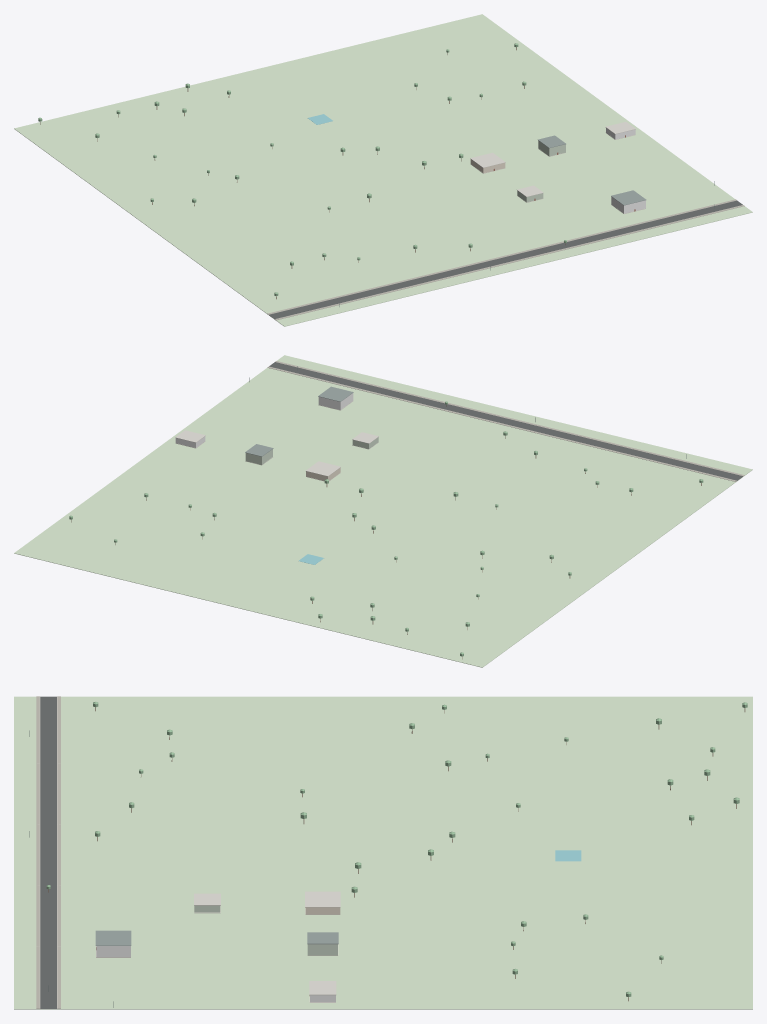
File: chunk_1_5_low.glb
3 renders of one model, top to bottom at view 1: azimuth 30°, elevation 25°; view 2: azimuth 150°, elevation 25°; view 3: azimuth 270°, elevation 25°, orthographic. The views are drawn at different scales.
Parts seen in each view (by area): view 1: city_grass, city_world_asphalt, city_world_sidewalk, city_roof_tile, city_curb, city_foliage_dark, city_roof_slate; view 2: city_grass, city_world_asphalt, city_world_sidewalk, city_roof_tile, city_curb, city_foliage_dark, city_roof_slate; view 3: city_grass, city_world_asphalt, city_world_sidewalk, city_roof_tile, city_foliage_dark, city_roof_slate, city_curb, city_brick, city_wall_sage.
Part boxes in pixels (x1=…): city_grass: x1=14, y1=14, x2=752, y2=326; city_world_asphalt: x1=269, y1=200, x2=742, y2=318; city_world_sidewalk: x1=267, y1=199, x2=744, y2=320; city_roof_tile: x1=470, y1=122, x2=635, y2=196; city_curb: x1=269, y1=200, x2=742, y2=319; city_foliage_dark: x1=38, y1=43, x2=566, y2=296; city_roof_slate: x1=538, y1=135, x2=646, y2=205; city_grass: x1=14, y1=355, x2=752, y2=667; city_world_asphalt: x1=269, y1=362, x2=742, y2=480; city_world_sidewalk: x1=267, y1=361, x2=744, y2=481; city_roof_tile: x1=175, y1=430, x2=378, y2=476; city_curb: x1=271, y1=362, x2=743, y2=480; city_foliage_dark: x1=69, y1=401, x2=703, y2=656; city_roof_slate: x1=245, y1=386, x2=353, y2=456; city_grass: x1=14, y1=696, x2=752, y2=1009; city_world_asphalt: x1=40, y1=696, x2=56, y2=1008; city_world_sidewalk: x1=36, y1=696, x2=60, y2=1008; city_roof_tile: x1=194, y1=891, x2=340, y2=995; city_foliage_dark: x1=46, y1=701, x2=747, y2=997; city_roof_slate: x1=95, y1=930, x2=338, y2=945; city_curb: x1=36, y1=696, x2=60, y2=1008; city_brick: x1=96, y1=946, x2=335, y2=1002; city_wall_sage: x1=194, y1=905, x2=337, y2=955.
Bounding box in the file's own units: 512 × 9.93 × 512.
